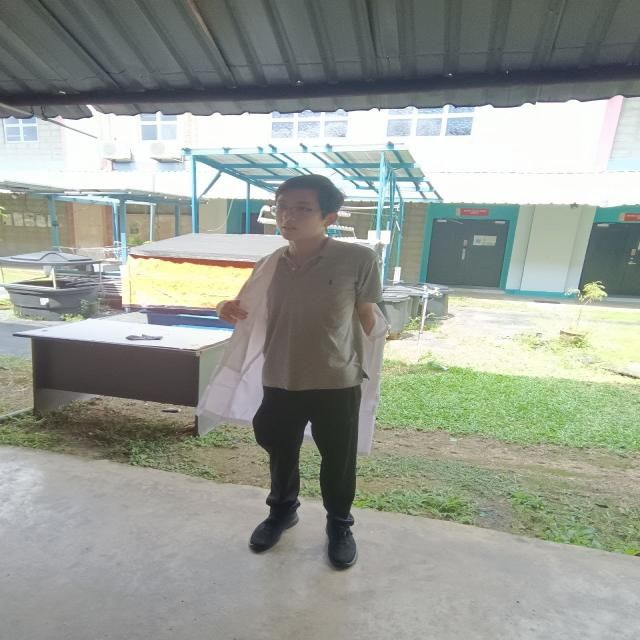person_without_labcoat: (199, 175, 383, 568)
